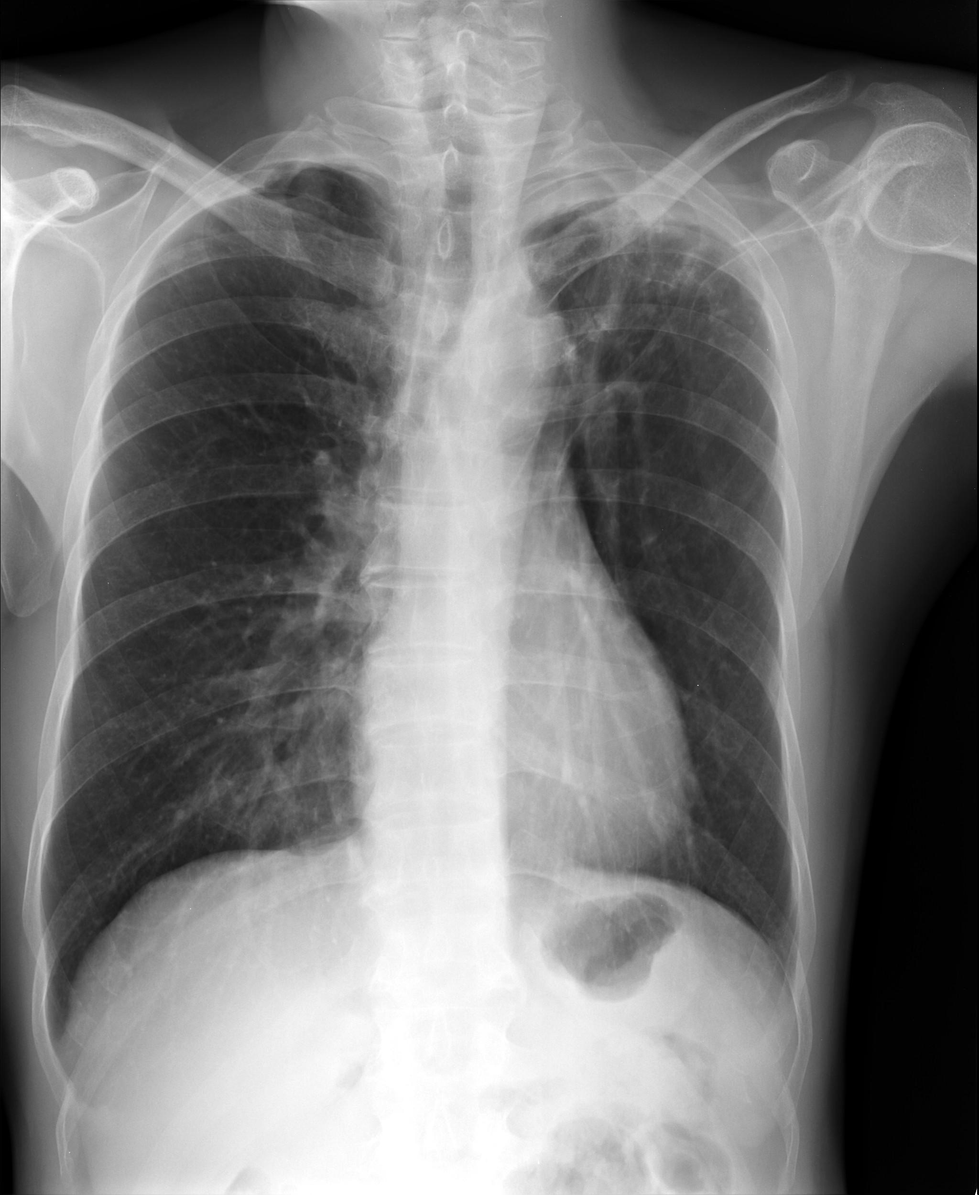Pleural thickening: (183, 156, 305, 194)
Pulmonary fibrosis: (555, 178, 751, 350), (156, 235, 208, 265)
